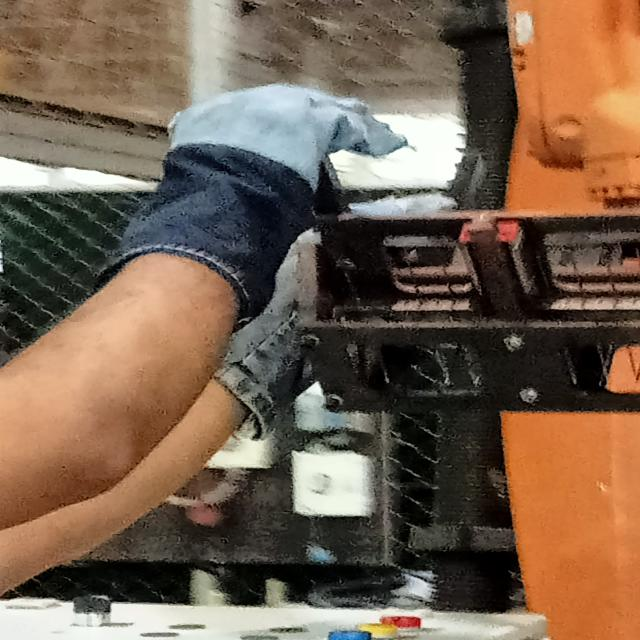Gloves-Detection: (138, 75, 364, 292)
